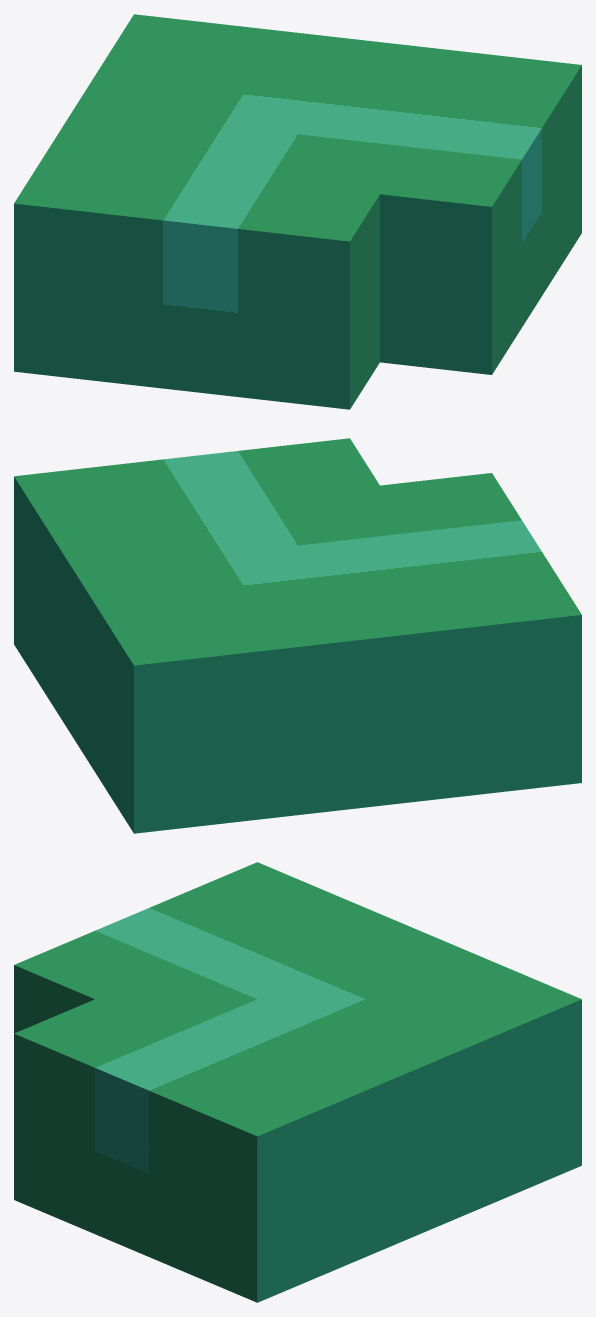
Rendered from lillypad.gltf.
3 renders of one model, top to bottom at view 1: azimuth 30°, elevation 25°; view 2: azimuth 150°, elevation 25°; view 3: azimuth 270°, elevation 25°, orthographic.
Parts seen in each view (by area): view 1: cube; view 2: cube; view 3: cube.
Boxes of the visible parts, bbox=[...] form: cube: bbox=[14, 14, 581, 409]; cube: bbox=[14, 438, 581, 833]; cube: bbox=[14, 862, 581, 1302].
Bounding box in the file's own units: 0.8839 × 0.25 × 0.7734.
1 material, 1 textured.
